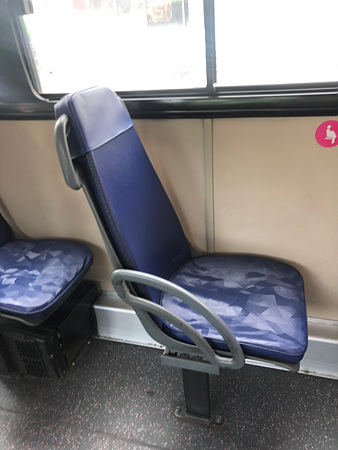seat: (54, 89, 308, 369)
